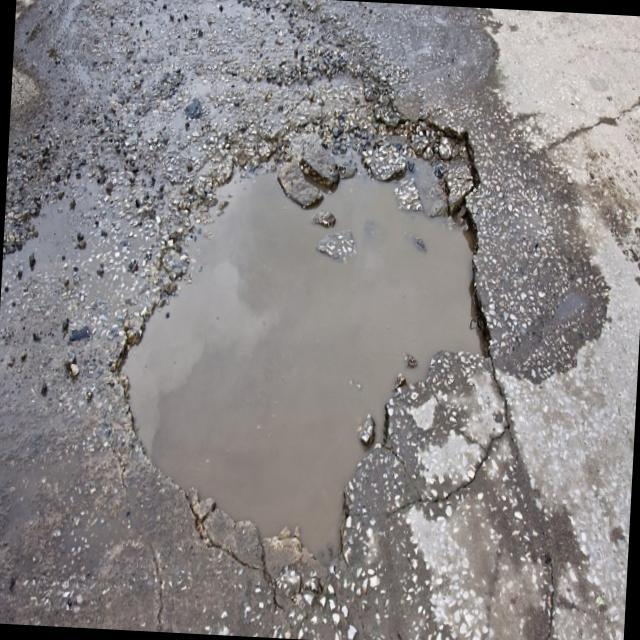Pothole: (110, 93, 496, 560)
